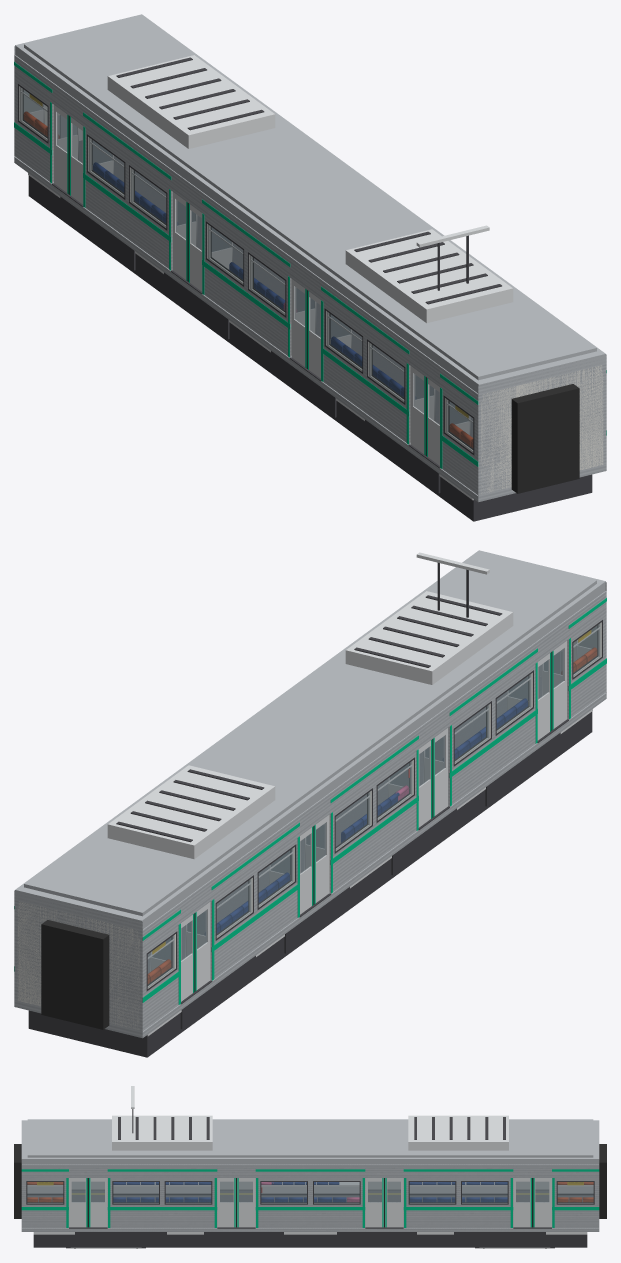
Rendered from train_car.glb.
The picture shows the model from 3 angles, top to bottom: view 1: azimuth 30°, elevation 25°; view 2: azimuth 150°, elevation 25°; view 3: azimuth 270°, elevation 25°; orthographic projection. The views are drawn at different scales.
Parts seen in each view (by area): view 1: CarBody, DoorL0b, DoorL2b, DoorL1b, DoorL3b, DoorL2a, DoorL3a, DoorL1a, DoorL0a, Pantograph; view 2: CarBody, DoorL3a, DoorL1a, DoorL2a, DoorL0a, DoorL0b, DoorL1b, DoorL2b, DoorL3b, Pantograph; view 3: CarBody, DoorR1a, DoorR2a, DoorR0a, DoorR3a, DoorR1b, DoorR2b, DoorR0b, DoorR3b.
Part boxes in pixels (x1,y1,x2,y2): CarBody: (14,14,606,521); DoorL0b: (410,366,427,456); DoorL2b: (172,192,189,282); DoorL1b: (291,279,308,369); DoorL3b: (54,105,70,195); DoorL2a: (186,202,202,291); DoorL3a: (67,115,83,204); DoorL1a: (305,289,320,378); DoorL0a: (424,376,439,465); Pantograph: (416,225,489,290); CarBody: (14,550,606,1057); DoorL3a: (193,902,210,992); DoorL1a: (431,728,448,818); DoorL2a: (312,815,329,905); DoorL0a: (550,641,566,731); DoorL0b: (537,651,553,740); DoorL1b: (418,738,434,827); DoorL2b: (300,825,315,914); DoorL3b: (181,912,196,1001); Pantograph: (416,552,489,617); CarBody: (14,1115,606,1248); DoorR1a: (217,1178,238,1227); DoorR2a: (365,1178,386,1227); DoorR0a: (69,1178,90,1227); DoorR3a: (513,1178,534,1227); DoorR1b: (234,1178,255,1227); DoorR2b: (382,1178,403,1227); DoorR0b: (86,1178,107,1227); DoorR3b: (530,1178,551,1227).
Size of the model in its own units: 3.14 by 5.29 by 20.02.
30 materials, 11 textured.
